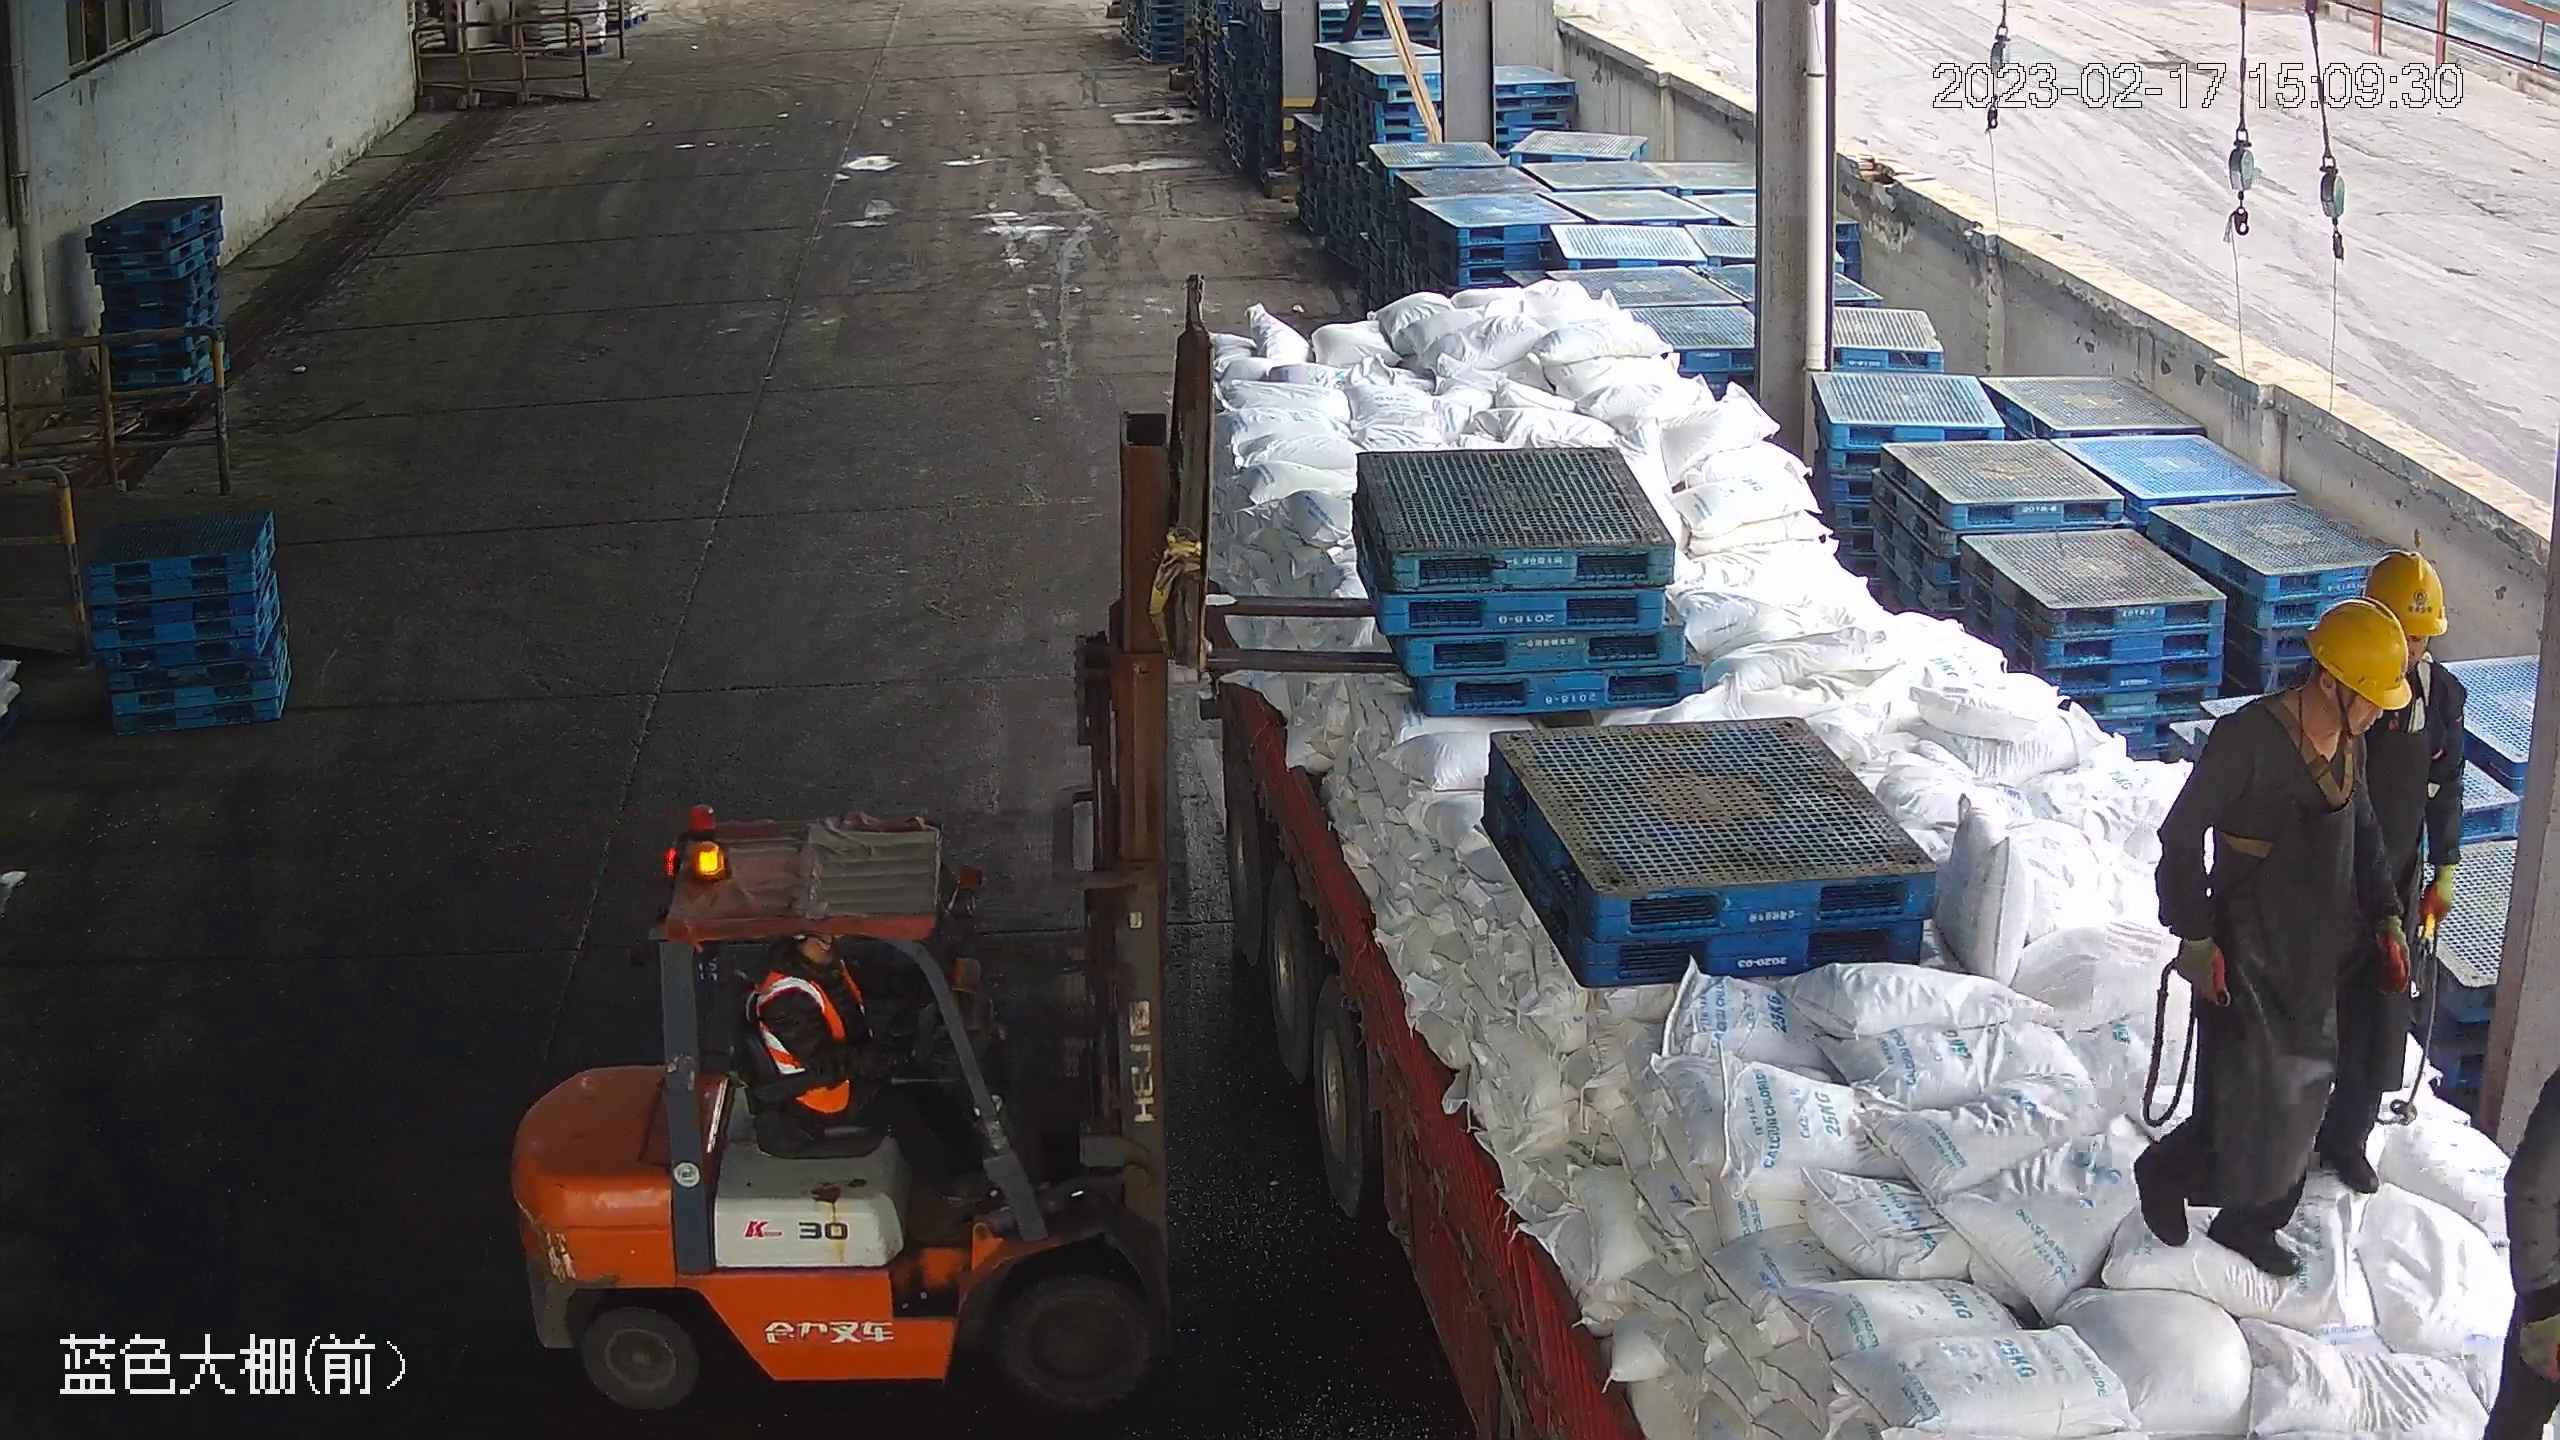belt: (2245, 692, 2368, 820)
head: (2202, 599, 2415, 773)
helmet: (2302, 596, 2414, 712), (2362, 549, 2451, 638)
people: (2131, 598, 2417, 1279), (2296, 550, 2468, 1194)
truck: (1208, 325, 2560, 1440)
